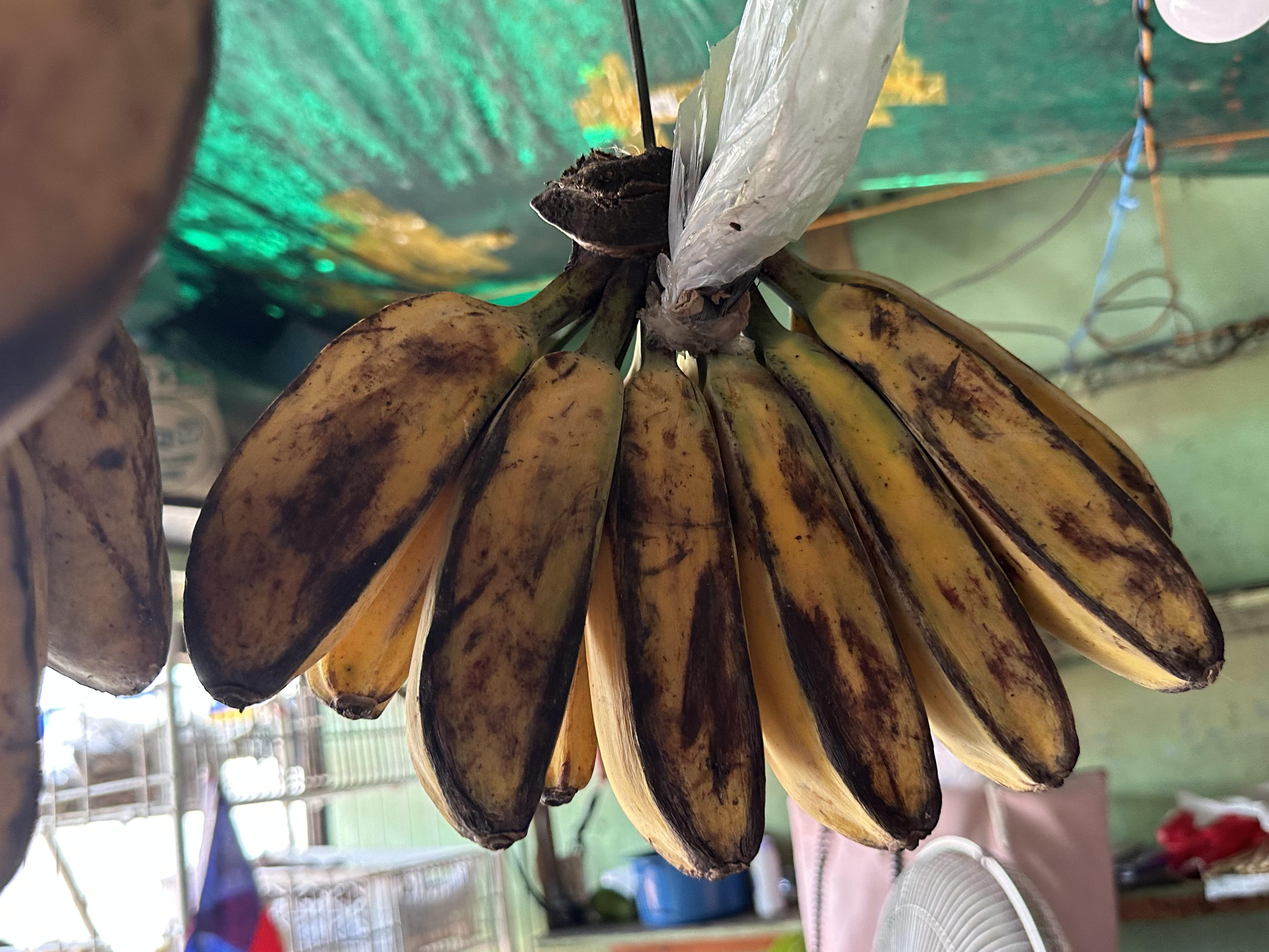ripe: (184, 271, 1227, 880), (0, 324, 172, 889)
